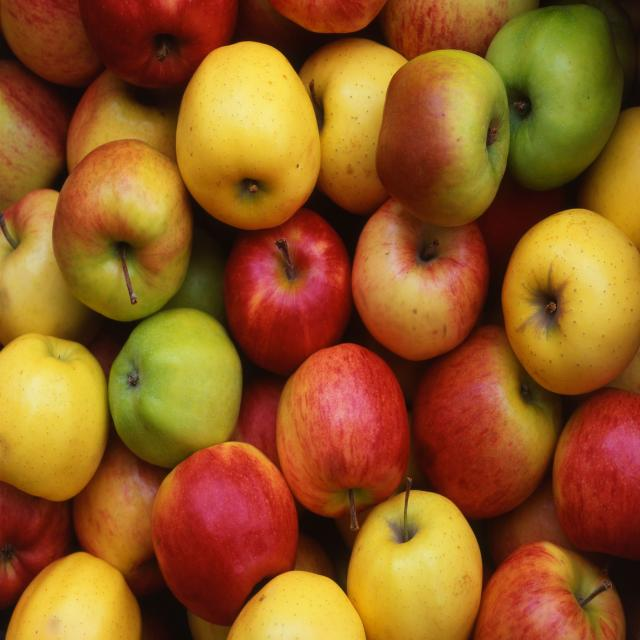Green Apple: (175, 40, 320, 232), (52, 140, 195, 323), (481, 3, 623, 187), (502, 209, 640, 395), (351, 195, 490, 361), (108, 307, 245, 470), (345, 489, 485, 640), (2, 333, 109, 499), (4, 552, 145, 640), (215, 570, 370, 640)
Red Apple: (11, 51, 639, 637), (243, 1, 402, 33)
